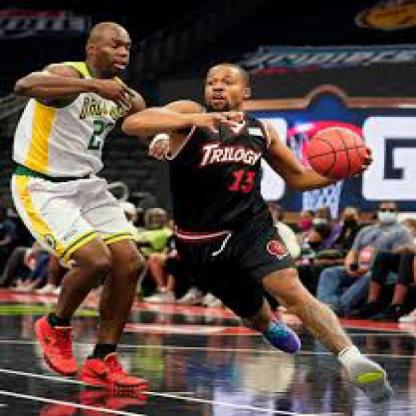basketball: (306, 127, 366, 180)
